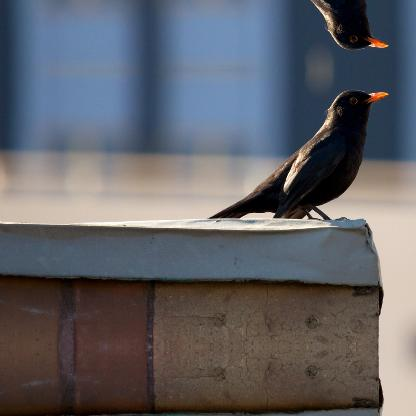Bird: (208, 87, 396, 217), (208, 0, 397, 52)
